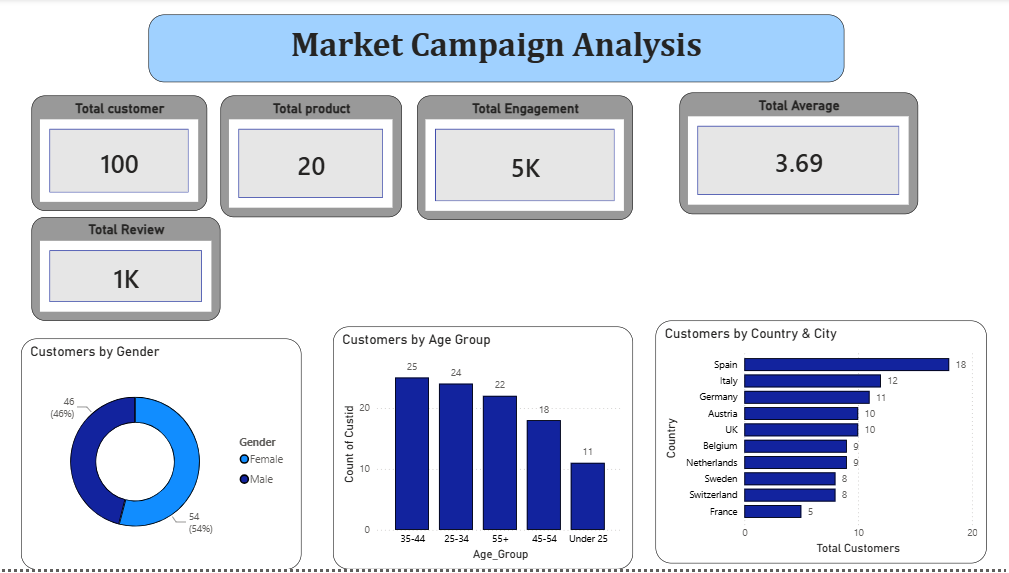

Layout of this report page (visuals, bound fields, positions):
{"tool":"powerbi","page":{"name":"MK.C. PROJECT","canvas":[1280,720],"ordinal":0},"visuals":[{"type":"textbox","box":[194.6,20.8,876.9,85],"z":0},{"type":"cardVisual","title":"Total customer","fields":{"Data":["Customers csv.Total Customers"]},"box":[47.2,122.8,221.1,145.5],"z":1},{"type":"cardVisual","title":"Total product ","fields":{"Data":["Products csv.Total Products"]},"box":[285.4,122.8,228.7,153.1],"z":2},{"type":"cardVisual","title":"Total Engagement ","fields":{"Data":["Engagement_data csv.Total Engagements"]},"box":[532.9,122.8,272.1,156.9],"z":3},{"type":"cardVisual","title":"Total Review","fields":{"Data":["Cust_review csv.Total Reviews"]},"box":[47.2,275.9,238.1,130.4],"z":4},{"type":"cardVisual","title":"Total Average","fields":{"Data":["Cust_review csv.Average Rating"]},"box":[863.6,119.1,300.5,153.1],"z":5},{"type":"donutChart","title":" Customers by Gender","fields":{"Category":["Customers csv.Gender"],"Y":["CountNonNull(Customers csv.Custid)"]},"box":[34,429,353.4,291],"z":6},{"type":"clusteredColumnChart","title":" Customers by Age Group ","fields":{"Y":["CountNonNull(Customers csv.Custid)"],"Category":["Customers csv.Age_Group"]},"box":[427.1,413.9,378,306.1],"z":7},{"type":"clusteredBarChart","title":" Customers by Country & City ","fields":{"Category":["countries csv.Country"],"Y":["Customers csv.Total Customers"]},"box":[833.4,406.3,417.6,306.1],"z":8}]}

Visuals, with their boxes in screenshot pixels (x1, y1, x2, y2), scaled from the page's 1280x720 canvas onto the 1009x573 screenshot:
textbox: detection(153, 17, 845, 84)
"Total customer" cardVisual: detection(37, 98, 211, 214)
"Total product " cardVisual: detection(225, 98, 405, 220)
"Total Engagement " cardVisual: detection(420, 98, 635, 223)
"Total Review" cardVisual: detection(37, 220, 225, 323)
"Total Average" cardVisual: detection(681, 95, 918, 217)
" Customers by Gender" donutChart: detection(27, 341, 305, 572)
" Customers by Age Group " clusteredColumnChart: detection(337, 329, 635, 572)
" Customers by Country & City " clusteredBarChart: detection(657, 323, 986, 567)
